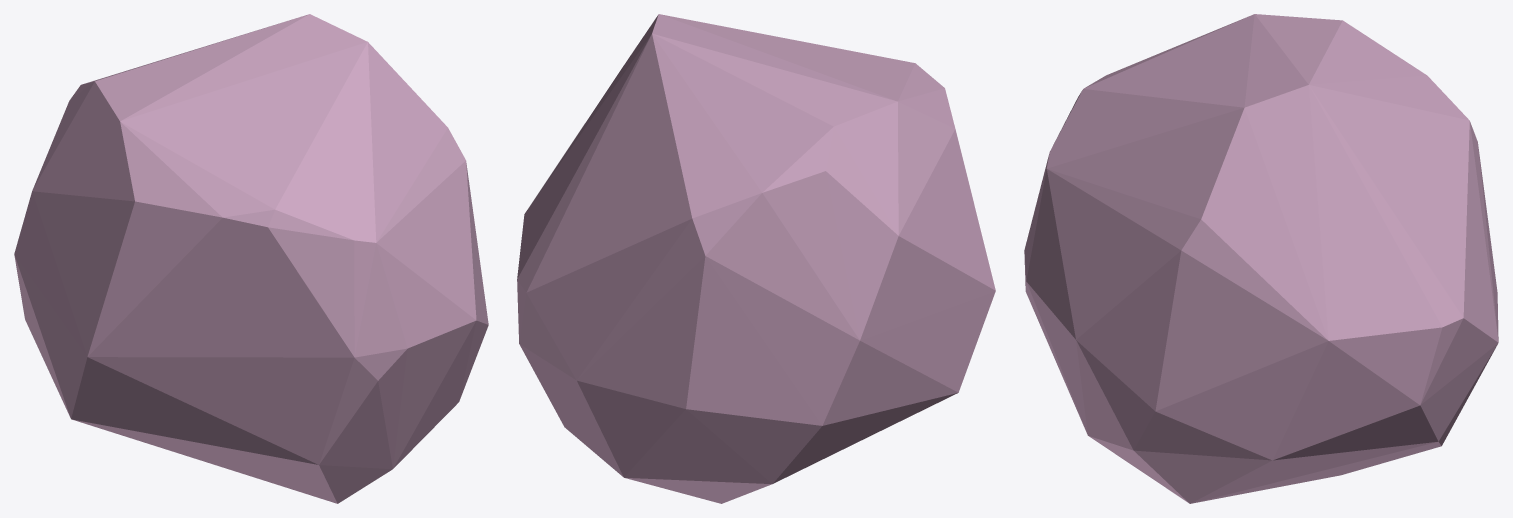
Rendered from food_produce_lime_d01.glb.
The picture shows the model from 3 angles, left to right: view 1: azimuth 30°, elevation 25°; view 2: azimuth 150°, elevation 25°; view 3: azimuth 270°, elevation 25°; orthographic projection.
Visible parts, largest first — view 1: geometry_0; view 2: geometry_0; view 3: geometry_0.
Boxes of the visible parts, x1,y1,x2,y2 form: geometry_0: (14, 14, 488, 503); geometry_0: (517, 14, 995, 503); geometry_0: (1024, 14, 1498, 503).
Size of the model in its own units: 0.4017 by 0.4184 by 0.4164.
